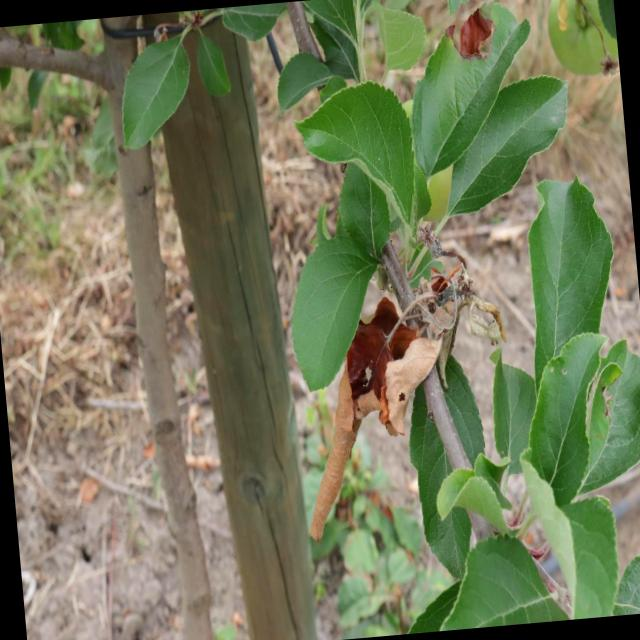-FireBlight-: (304, 269, 502, 553)
